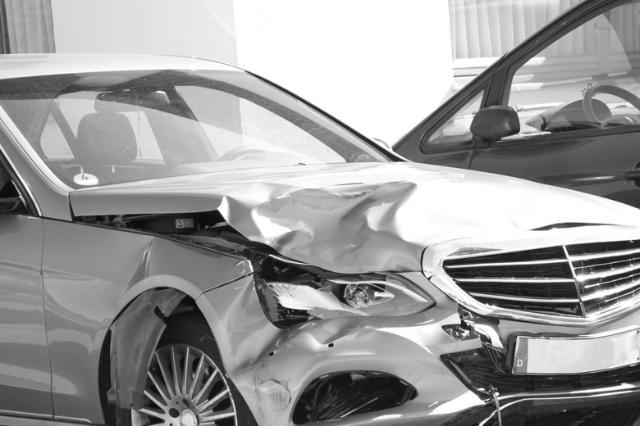Bonnet: (217, 164, 498, 261)
Bumper: (220, 311, 525, 420)
Fender: (95, 232, 193, 313)
Light: (259, 263, 433, 326)
